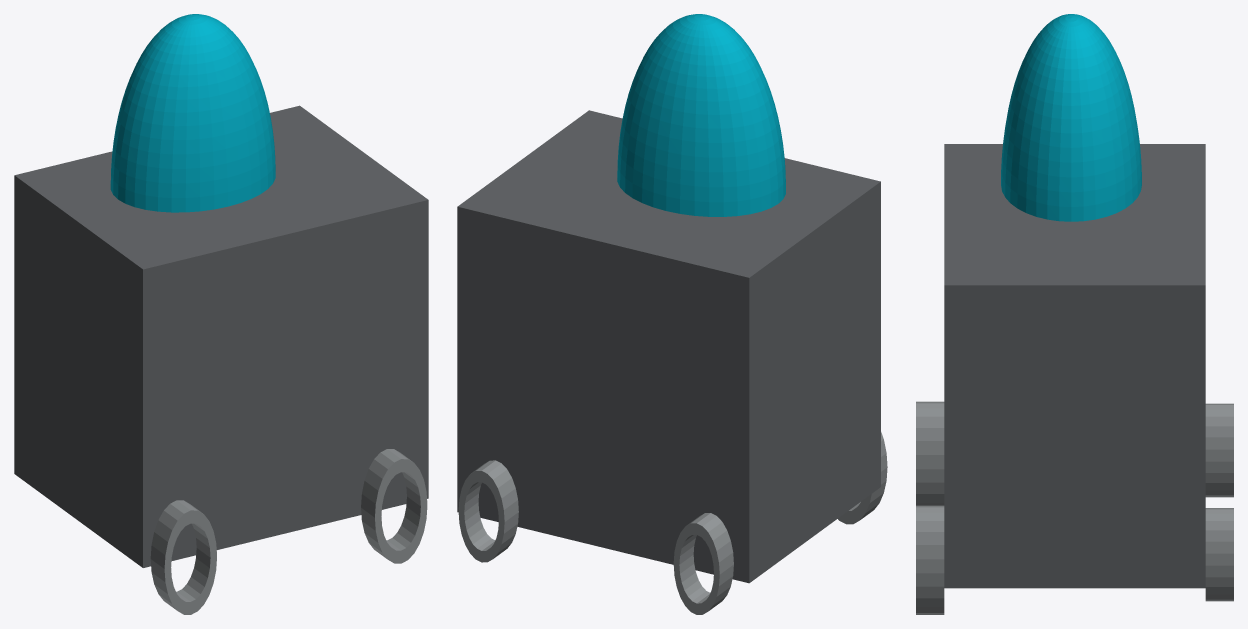
File: Shiny Bruticus.glb
The picture shows the model from 3 angles, left to right: view 1: azimuth 30°, elevation 25°; view 2: azimuth 150°, elevation 25°; view 3: azimuth 270°, elevation 25°; orthographic projection. The views are drawn at different scales.
Visible parts, largest first — view 1: Mesh_Mesh_head_geo.001_lambert2SG.001; view 2: Mesh_Mesh_head_geo.001_lambert2SG.001; view 3: Mesh_Mesh_head_geo.001_lambert2SG.001.
Part boxes in pixels (x1,y1,x2,y2): Mesh_Mesh_head_geo.001_lambert2SG.001: [14, 14, 428, 614]; Mesh_Mesh_head_geo.001_lambert2SG.001: [457, 14, 887, 614]; Mesh_Mesh_head_geo.001_lambert2SG.001: [916, 14, 1233, 614].
Size of the model in its own units: 20 by 35 by 19.
